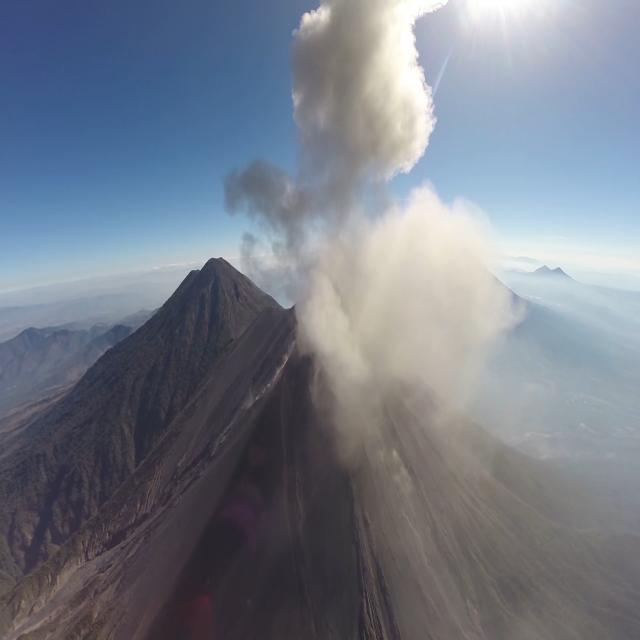Plume: (282, 172, 524, 460), (285, 1, 449, 235)
